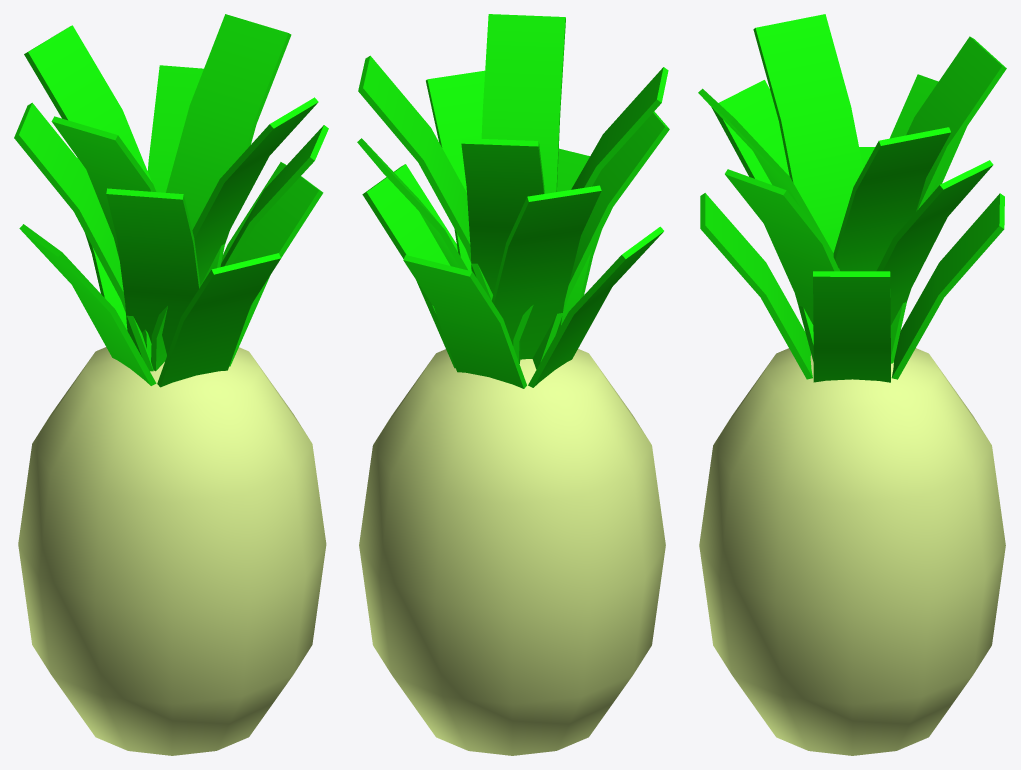
File: RetroPineapple.FBX
3 renders of one model, left to right at view 1: azimuth 30°, elevation 25°; view 2: azimuth 150°, elevation 25°; view 3: azimuth 270°, elevation 25°, orthographic.
Visible parts, largest first — view 1: Box03; view 2: Box03; view 3: Box03.
Boxes of the visible parts, left/top/right/bottom form: Box03: left=14, top=14, right=328, bottom=755; Box03: left=357, top=14, right=669, bottom=755; Box03: left=698, top=14, right=1006, bottom=755.
Bounding box in the file's own units: 4.21 × 4.21 × 10.03.
